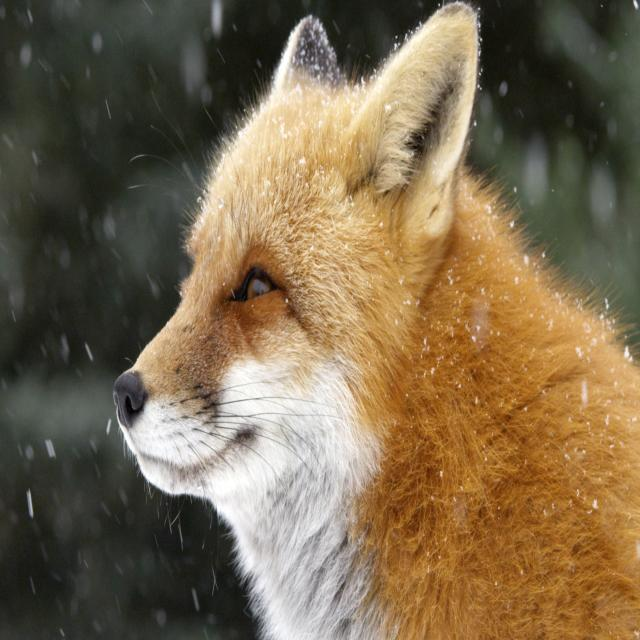fox: (113, 3, 640, 638)
